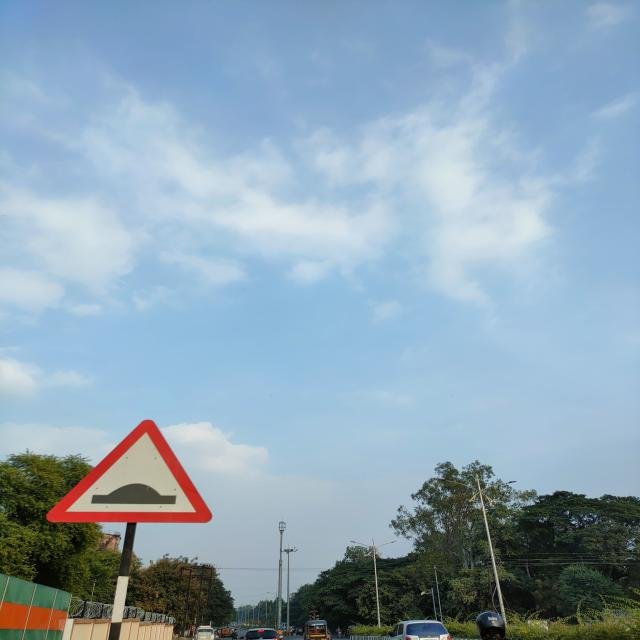horn_prohibited: (46, 419, 210, 525)
